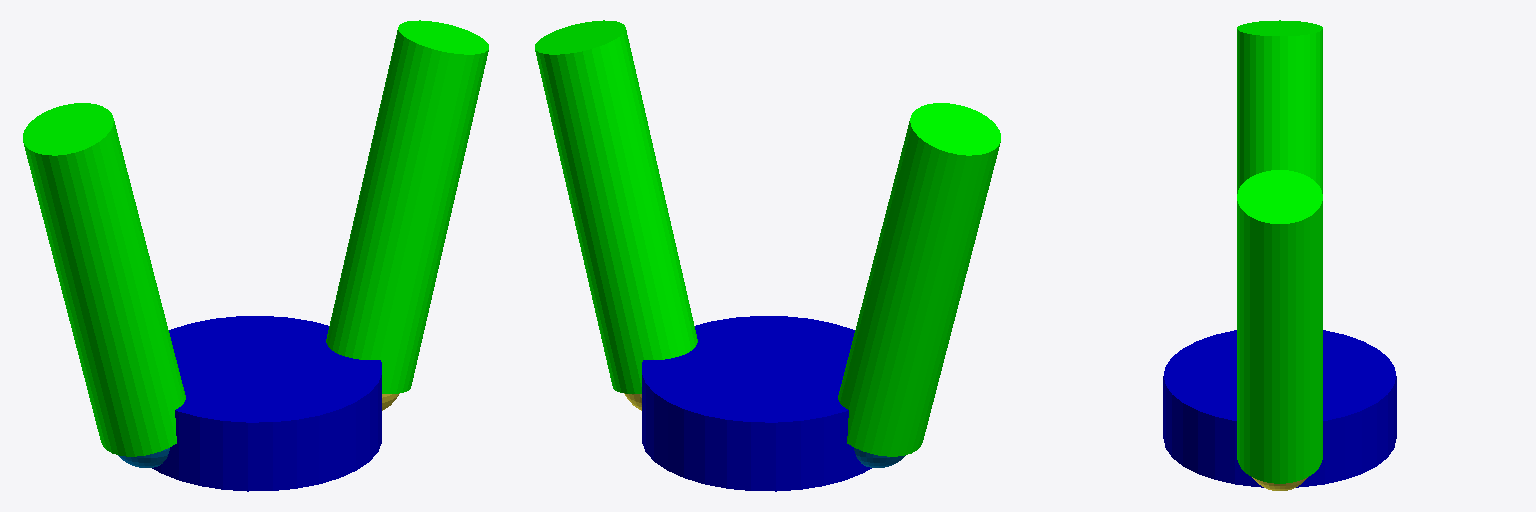
URDF robot description (gripper_2f_1j):
<?xml version='1.0' encoding='UTF-8'?>
<robot name="gripper_2f_1j">
  <link name="palm">
    <inertial>
      <origin xyz="0.0 0.0 0.0" rpy="0.0 -0.0 0.0"/>
      <mass value="1.0"/>
      <inertia ixx="1.0" ixy="0.0" ixz="0.0" iyy="1.0" iyz="0.0" izz="1.0"/>
    </inertial>
    <visual>
      <geometry>
        <cylinder radius="0.05" length="0.03"/>
      </geometry>
      <material name="blue"/>
      <origin xyz="0.0 0.0 0.0" rpy="0.0 -0.0 0.0"/>
    </visual>
    <collision>
      <geometry>
        <cylinder radius="0.05" length="0.03"/>
      </geometry>
      <origin xyz="0.0 0.0 0.0" rpy="0.0 0.0 0.0"/>
    </collision>
  </link>
  <link name="f11">
    <inertial>
      <origin xyz="0.0 0.0 0.0" rpy="0.0 -0.0 0.0"/>
      <mass value="1.0"/>
      <inertia ixx="1.0" ixy="0.0" ixz="0.0" iyy="1.0" iyz="0.0" izz="1.0"/>
    </inertial>
    <visual>
      <geometry>
        <cylinder radius="0.01847077660854132" length="0.1439794767303284"/>
      </geometry>
      <material name="green"/>
      <origin xyz="0.0 0.0 0.0719897383651642" rpy="0.0 -0.0 0.0"/>
    </visual>
    <collision>
      <geometry>
        <cylinder radius="0.01847077660854132" length="0.1439794767303284"/>
      </geometry>
      <origin xyz="0.0 0.0 0.05" rpy="0.0 0.0 0.0"/>
    </collision>
  </link>
  <link name="f21">
    <inertial>
      <origin xyz="0.0 0.0 0.0" rpy="0.0 -0.0 0.0"/>
      <mass value="1.0"/>
      <inertia ixx="1.0" ixy="0.0" ixz="0.0" iyy="1.0" iyz="0.0" izz="1.0"/>
    </inertial>
    <visual>
      <geometry>
        <cylinder radius="0.01847077660854132" length="0.1439794767303284"/>
      </geometry>
      <material name="green"/>
      <origin xyz="0.0 0.0 0.0719897383651642" rpy="0.0 -0.0 0.0"/>
    </visual>
    <collision>
      <geometry>
        <cylinder radius="0.01847077660854132" length="0.1439794767303284"/>
      </geometry>
      <origin xyz="0.0 0.0 0.05" rpy="0.0 0.0 0.0"/>
    </collision>
  </link>
  <link name="f11_base">
    <inertial>
      <origin xyz="0.0 0.0 0.0" rpy="0.0 -0.0 0.0"/>
      <mass value="1.0"/>
      <inertia ixx="1.0" ixy="0.0" ixz="0.0" iyy="1.0" iyz="0.0" izz="1.0"/>
    </inertial>
    <visual>
      <geometry>
        <sphere radius="0.015"/>
      </geometry>
      <origin xyz="0.0 0.0 0.0" rpy="0.0 -0.0 0.0"/>
    </visual>
  </link>
  <link name="f21_base">
    <inertial>
      <origin xyz="0.0 0.0 0.0" rpy="0.0 -0.0 0.0"/>
      <mass value="1.0"/>
      <inertia ixx="1.0" ixy="0.0" ixz="0.0" iyy="1.0" iyz="0.0" izz="1.0"/>
    </inertial>
    <visual>
      <geometry>
        <sphere radius="0.015"/>
      </geometry>
      <origin xyz="0.0 0.0 0.0" rpy="0.0 -0.0 0.0"/>
    </visual>
  </link>
  <joint name="f11_joint" type="revolute">
    <dynamics damping="100.0" friction="1.0"/>
    <limit effort="30.0" velocity="2.0" lower="-0.6" upper="0.25"/>
    <parent link="f11_base"/>
    <child link="f11"/>
    <axis xyz="0. 1. 0."/>
    <origin xyz="0.0 0.0 0.0" rpy="0.0 0.25 0.0"/>
  </joint>
  <joint name="f21_joint" type="revolute">
    <dynamics damping="100.0" friction="1.0"/>
    <limit effort="30.0" velocity="2.0" lower="-0.6" upper="0.25"/>
    <parent link="f21_base"/>
    <child link="f21"/>
    <axis xyz=" 0. -1.  0."/>
    <origin xyz="0.0 0.0 0.0" rpy="0.0 -0.25 0.0"/>
  </joint>
  <joint name="f11_base_joint" type="fixed">
    <parent link="palm"/>
    <child link="f11_base"/>
    <axis xyz="1. 0. 0."/>
    <origin xyz="0.05 0.0 0.0" rpy="0.0 0.0 0.0"/>
  </joint>
  <joint name="f21_base_joint" type="fixed">
    <parent link="palm"/>
    <child link="f21_base"/>
    <axis xyz="1. 0. 0."/>
    <origin xyz="-0.05 -0.0 0.0" rpy="0.0 0.0 0.0"/>
  </joint>
  <material name="blue">
    <color rgba="0.  0.  0.8 1. "/>
  </material>
  <material name="green">
    <color rgba="0. 1. 0. 1."/>
  </material>
</robot>

--- Facts derived from the render (not from the file) ---
Views: 3 orthographic renders of the robot side by side, from view 1: azimuth 30°, elevation 25°; view 2: azimuth 150°, elevation 25°; view 3: azimuth 270°, elevation 25°.
Model gripper_2f_1j with 5 links and 4 joints (2 revolute, 2 fixed), rooted at palm, posed every joint at zero.
Visible links, largest first — view 1: f11, f21, palm; view 2: f11, f21, palm; view 3: f11, palm, f21.
Link boxes in pixels (x1,y1,x2,y2): f11: (326, 20, 488, 393); f21: (23, 103, 185, 456); palm: (152, 316, 381, 491); f11: (535, 20, 697, 393); f21: (838, 103, 1000, 456); palm: (642, 316, 871, 491); f11: (1237, 170, 1322, 483); palm: (1163, 330, 1396, 487); f21: (1237, 20, 1322, 193).
Size in the robot's own frame: 0.207 by 0.1 by 0.1591 metres.
Geometry: primitives only (box / cylinder / sphere), no mesh files.